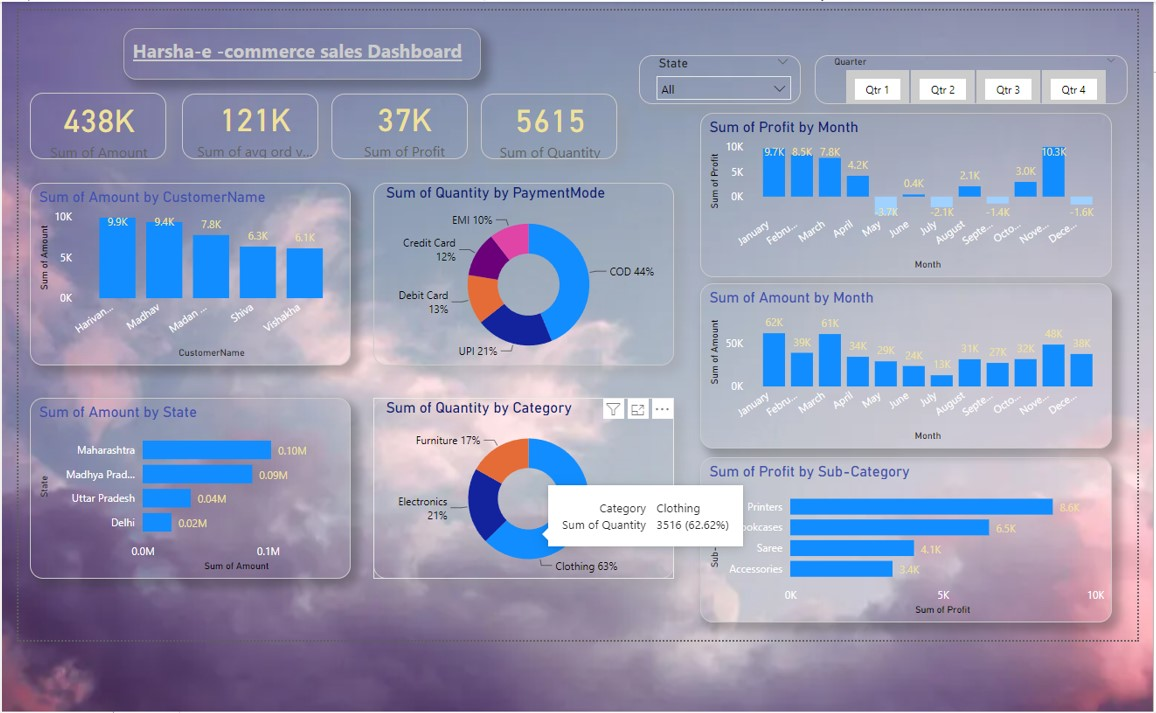

This screenshot's page, from the dashboard's own definition file:
{"tool":"powerbi","page":{"name":"Page 1","canvas":[1280,720],"ordinal":0},"visuals":[{"type":"textbox","box":[119.5,20.4,409.2,58.3],"z":0},{"type":"columnChart","fields":{"Category":["Orders.Order Date.Variation.Date Hierarchy.Month"],"Y":["Details.Profit"]},"box":[780.4,116.6,470.4,188.5],"z":1},{"type":"columnChart","fields":{"Category":["Orders.Order Date.Variation.Date Hierarchy.Month"],"Y":["Details.Amount"]},"box":[780.4,312,470.4,188.5],"z":2},{"type":"barChart","fields":{"Y":["Details.Profit"],"Category":["Details.Sub-Category"]},"box":[780.4,511.2,470.4,188.5],"z":3},{"type":"card","fields":{"Values":["Details.Quantity"]},"box":[528.7,95.2,156.5,74.8],"z":4},{"type":"slicer","fields":{"Values":["Orders.State"]},"box":[710.5,50.5,184.7,56.4],"z":5},{"type":"donutChart","fields":{"Y":["Details.Quantity"],"Category":["Details.PaymentMode"]},"box":[406.3,197.3,344.1,209],"z":6},{"type":"slicer","fields":{"Values":["Orders.Order Date.Variation.Date Hierarchy.Quarter"]},"box":[910.7,50.5,358.6,56.4],"z":7},{"type":"card","fields":{"Values":["Details.Amount"]},"box":[12.6,94.3,156.5,75.8],"z":8},{"type":"card","fields":{"Values":["Details.Profit"]},"box":[357.7,95.2,156.5,74.8],"z":9},{"type":"card","fields":{"Values":["Details.avg ord value"]},"box":[186.6,95.2,156.5,74.8],"z":10},{"type":"donutChart","fields":{"Y":["Details.Quantity"],"Category":["Details.Category"]},"box":[406.3,443.2,344.1,207],"z":11},{"type":"columnChart","fields":{"Category":["Orders.CustomerName"],"Y":["Details.Amount"]},"box":[12.6,197.3,367.4,209],"z":12},{"type":"barChart","fields":{"Category":["Orders.State"],"Y":["Details.Amount"]},"box":[12.6,443.2,367.4,207],"z":13}]}

Visuals, with their boxes on the page's 1280x720 design canvas (x1, y1, x2, y2). These are canvas units, not pixel positions in the 1156x713 screenshot, which may show the page scaled, cropped or inside an application window:
textbox: [120,20,529,79]
columnChart - Orders.Order Date.Variation.Date Hierarchy.Month x Details.Profit: [780,117,1251,305]
columnChart - Orders.Order Date.Variation.Date Hierarchy.Month x Details.Amount: [780,312,1251,500]
barChart - Details.Profit x Details.Sub-Category: [780,511,1251,700]
card - Details.Quantity: [529,95,685,170]
slicer - Orders.State: [710,50,895,107]
donutChart - Details.Quantity x Details.PaymentMode: [406,197,750,406]
slicer - Orders.Order Date.Variation.Date Hierarchy.Quarter: [911,50,1269,107]
card - Details.Amount: [13,94,169,170]
card - Details.Profit: [358,95,514,170]
card - Details.avg ord value: [187,95,343,170]
donutChart - Details.Quantity x Details.Category: [406,443,750,650]
columnChart - Orders.CustomerName x Details.Amount: [13,197,380,406]
barChart - Orders.State x Details.Amount: [13,443,380,650]
